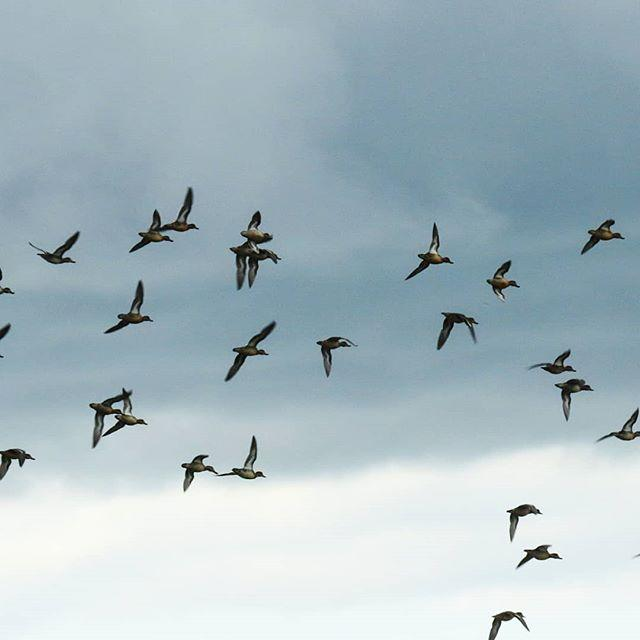bird: (225, 319, 275, 382), (88, 385, 133, 451), (106, 278, 154, 338), (407, 222, 452, 281), (104, 388, 150, 440), (548, 376, 596, 422), (434, 308, 482, 352), (224, 435, 268, 483), (27, 229, 80, 268), (314, 335, 359, 380), (130, 208, 174, 254), (176, 446, 218, 492), (164, 182, 198, 238), (579, 218, 624, 259), (502, 500, 542, 544), (481, 259, 520, 302), (0, 446, 37, 490), (247, 243, 282, 289), (517, 540, 563, 574), (598, 409, 640, 446), (526, 347, 576, 377), (234, 210, 275, 246), (481, 610, 530, 640), (229, 242, 254, 296), (1, 260, 17, 307)
